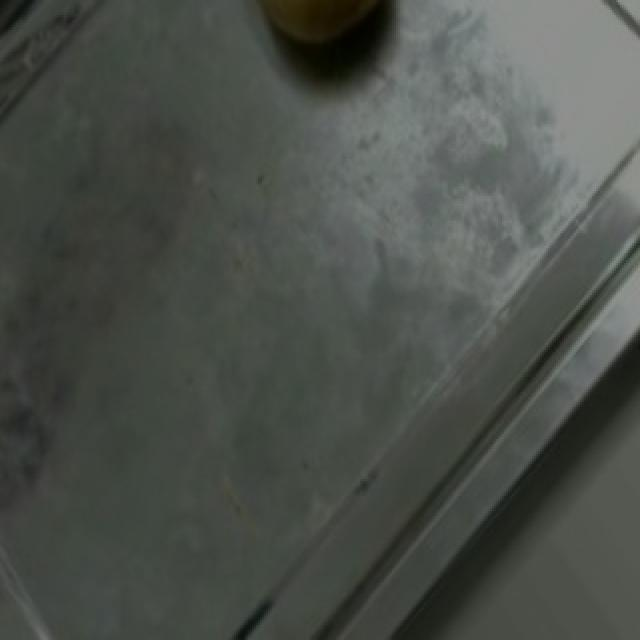Fruit: (218, 0, 428, 107)
